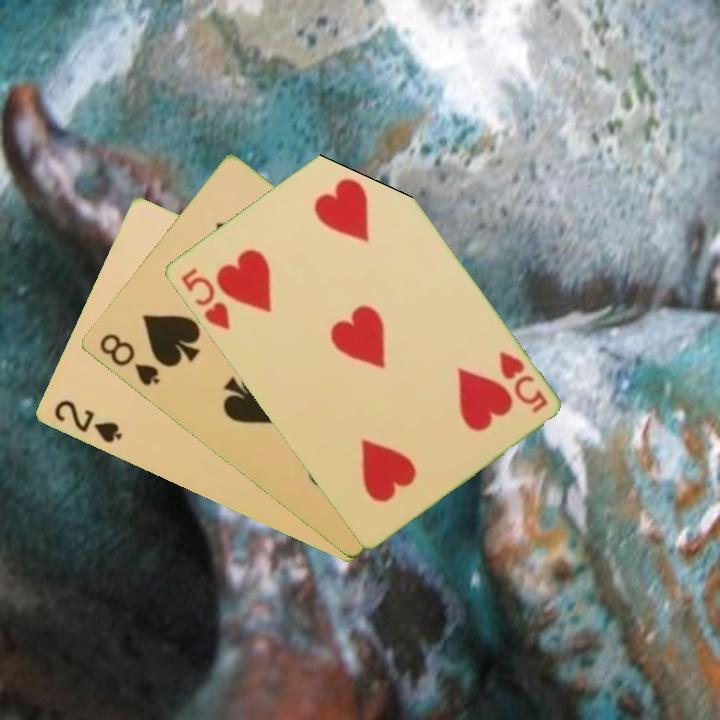2s: (50, 396, 125, 447)
5h: (177, 264, 233, 333), (495, 347, 550, 416)
8s: (95, 330, 163, 389)
